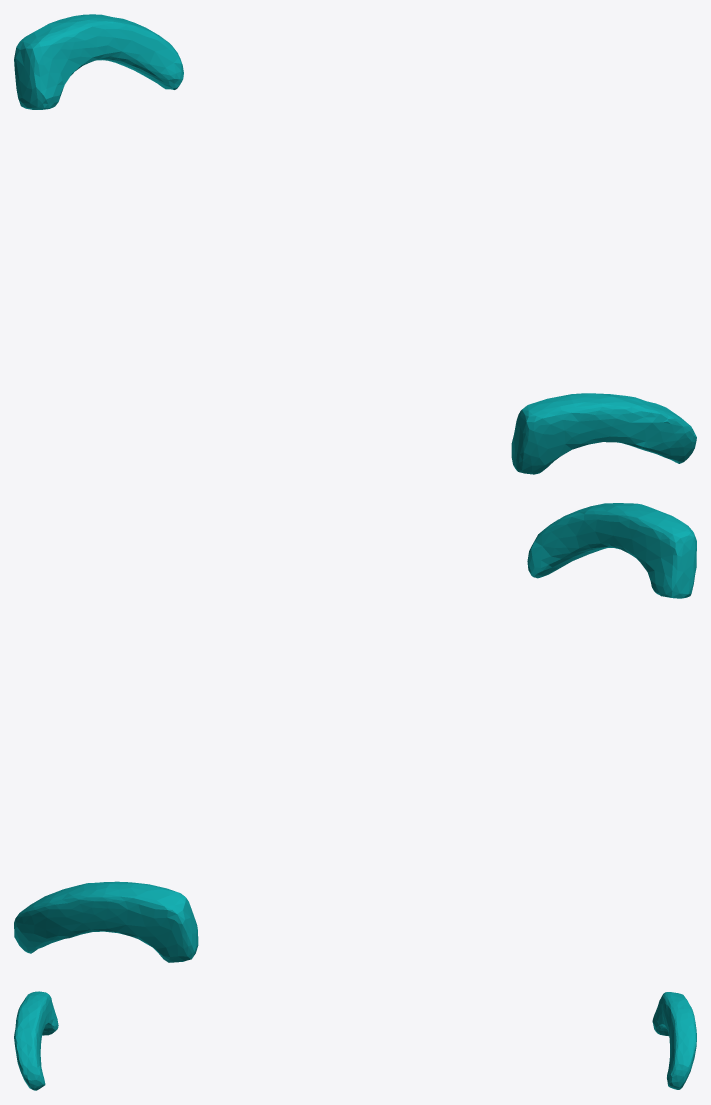
The picture shows the model from 3 angles, top to bottom: view 1: azimuth 30°, elevation 25°; view 2: azimuth 150°, elevation 25°; view 3: azimuth 270°, elevation 25°; orthographic projection. The views are drawn at different scales.
Parts seen in each view (by area): view 1: 1023.obj; view 2: 1023.obj; view 3: 1023.obj.
Part boxes in pixels (x1,y1,x2,y2): 1023.obj: [14, 14, 696, 474]; 1023.obj: [14, 503, 696, 962]; 1023.obj: [14, 991, 696, 1090].
Size of the model in its own units: 1735 by 885 by 9577.
